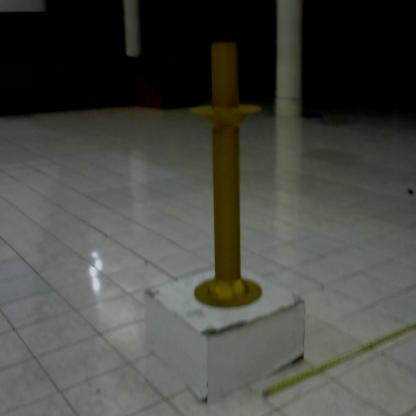pole: (177, 32, 277, 316)
